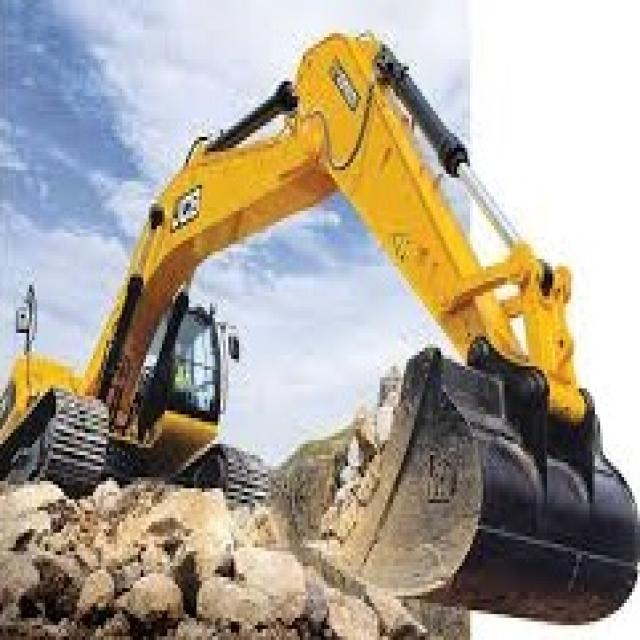excavator: (4, 234, 289, 517)
